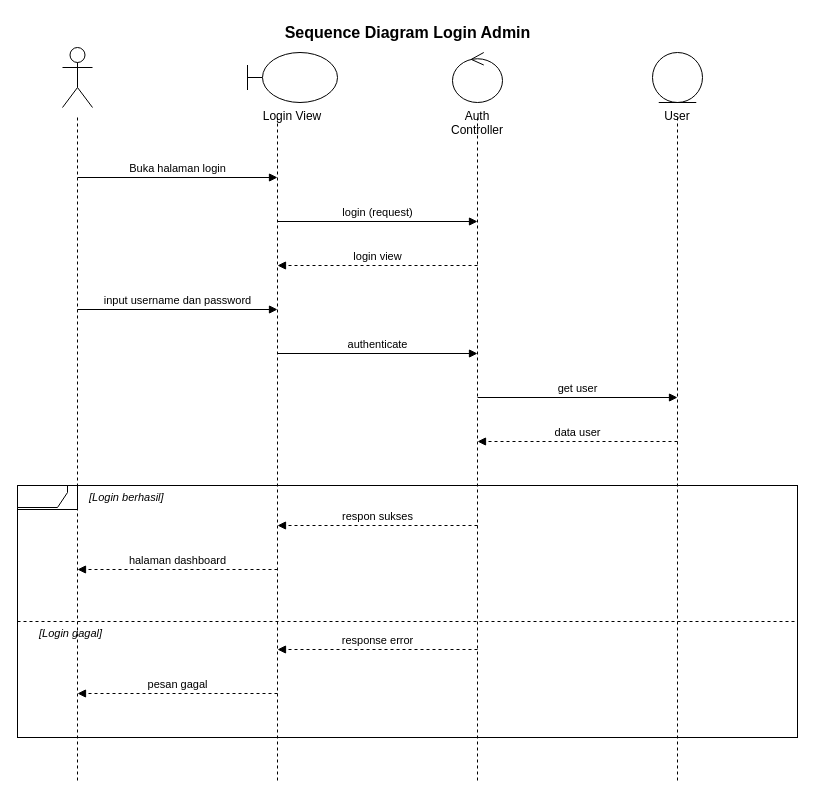
Image size: 816x802. Some labels were removed from this diagram. The shapes that lost their labels are listed below. From the top down, each one's centre as x and y in pixels, then its label:
At [77,77]: "Admin".
At [47,497]: "alt".
